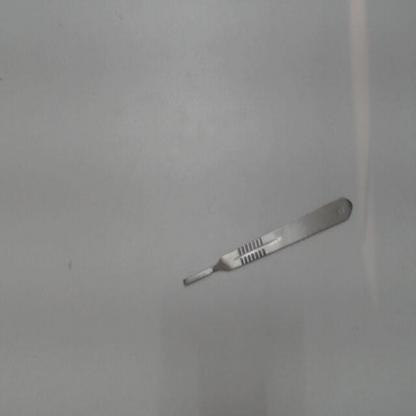No.4 BP Handle: (167, 184, 362, 302)
